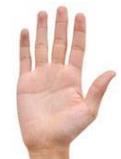down: (13, 4, 116, 153)
